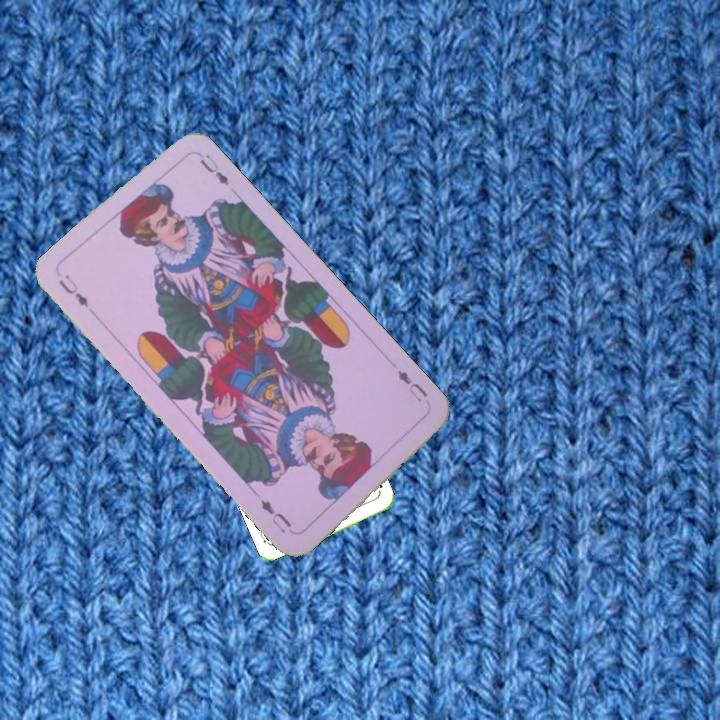EU: (393, 365, 431, 405), (54, 270, 92, 310)
